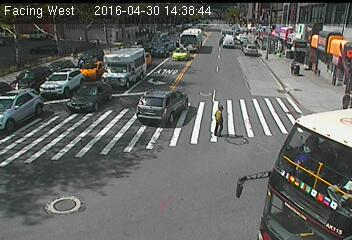neg: (51, 76, 78, 112), (198, 41, 222, 73), (175, 179, 199, 210), (143, 82, 166, 113), (251, 28, 274, 58), (89, 151, 111, 181), (244, 159, 265, 186), (269, 112, 285, 134), (254, 69, 269, 89), (313, 70, 325, 86)
pos: (204, 99, 234, 139), (287, 58, 299, 74)
